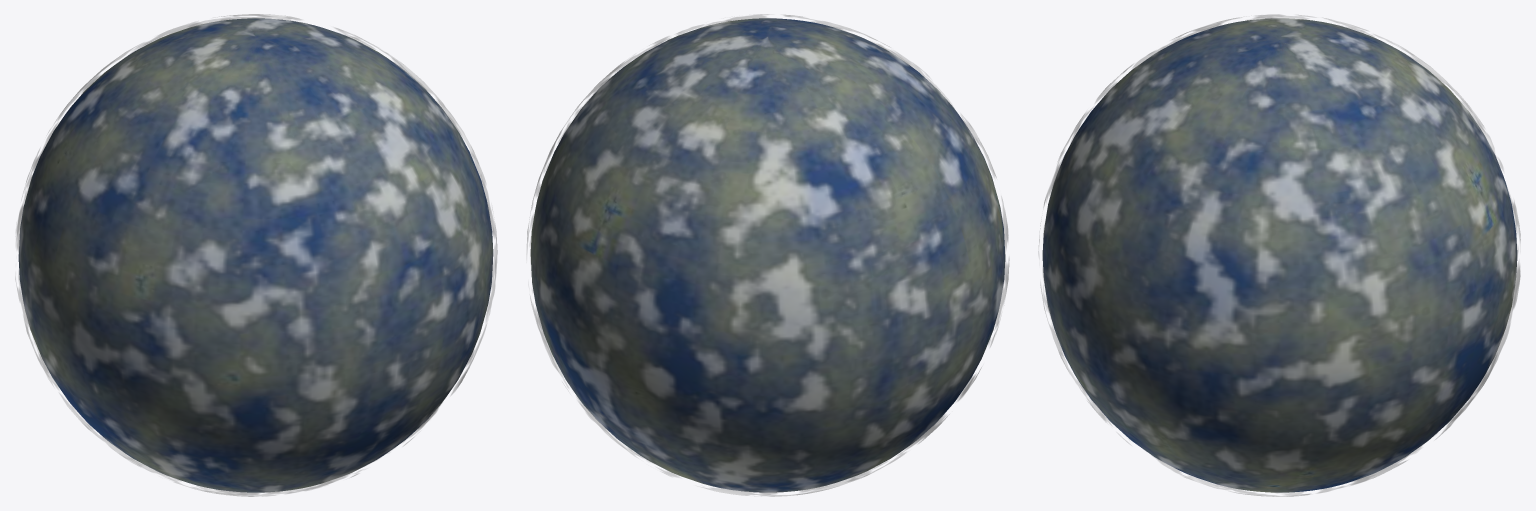
Rendered from planet_ocean_002.glb.
3 views of the same model, side by side, from view 1: azimuth 30°, elevation 25°; view 2: azimuth 150°, elevation 25°; view 3: azimuth 270°, elevation 25° (orthographic).
Visible parts, largest first — view 1: Planet_ocean_002, Clouds_ocean_002; view 2: Planet_ocean_002, Clouds_ocean_002; view 3: Planet_ocean_002, Clouds_ocean_002.
Boxes of the visible parts, x1=… form: Planet_ocean_002: x1=18, y1=18, x2=493, y2=492; Clouds_ocean_002: x1=15, y1=14, x2=497, y2=496; Planet_ocean_002: x1=530, y1=18, x2=1005, y2=492; Clouds_ocean_002: x1=526, y1=14, x2=1009, y2=496; Planet_ocean_002: x1=1042, y1=18, x2=1517, y2=492; Clouds_ocean_002: x1=1038, y1=14, x2=1520, y2=496.
Size of the model in its own units: 2.04 by 2.04 by 2.04.
Materials: 2 (2 with a texture image).
